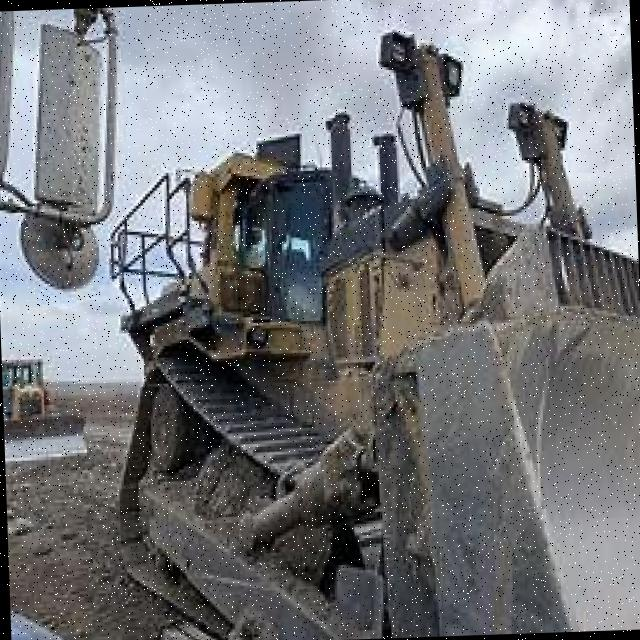Bulldozer: (94, 93, 640, 640)
